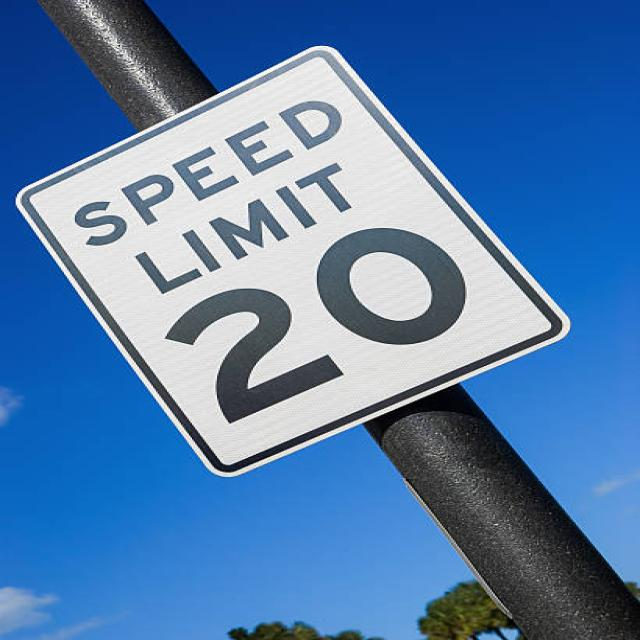speedLimit20: (6, 41, 587, 485)
